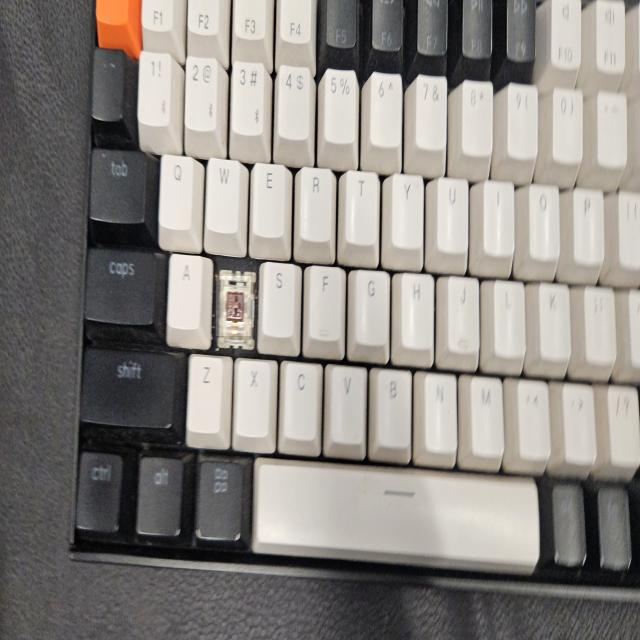C: (216, 276, 251, 336)
